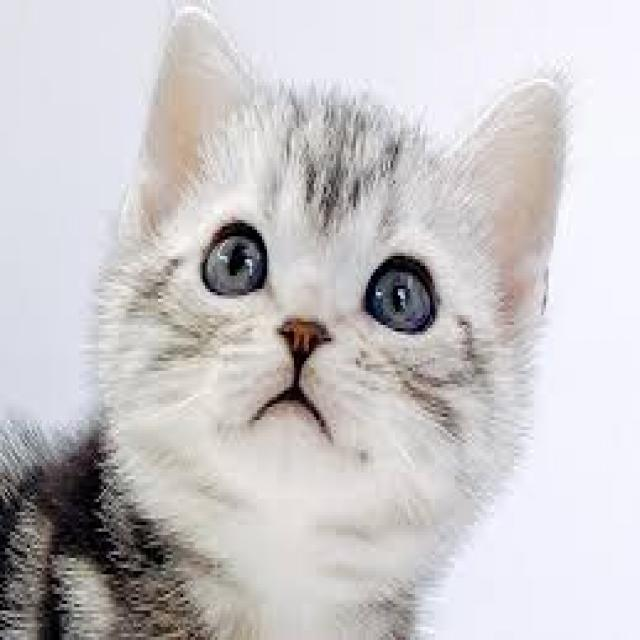cat-face: (105, 40, 579, 562)
